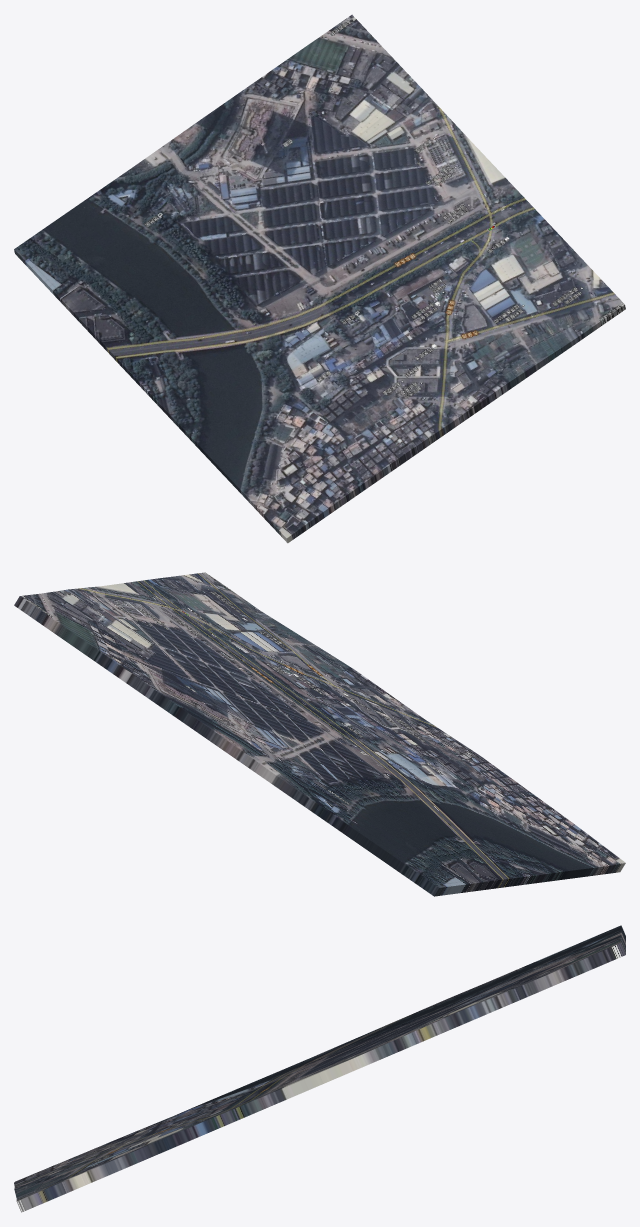
3 renders of one model, top to bottom at view 1: azimuth 30°, elevation 25°; view 2: azimuth 150°, elevation 25°; view 3: azimuth 270°, elevation 25°, orthographic. The views are drawn at different scales.
Visible parts, largest first — view 1: 0_16_2; view 2: 0_16_2; view 3: 0_16_2.
Boxes of the visible parts, bbox=[...] form: 0_16_2: bbox=[14, 14, 625, 543]; 0_16_2: bbox=[14, 572, 625, 896]; 0_16_2: bbox=[14, 925, 625, 1212].
Size of the model in its own units: 596 by 437 by 549.
1 material, 1 textured.
